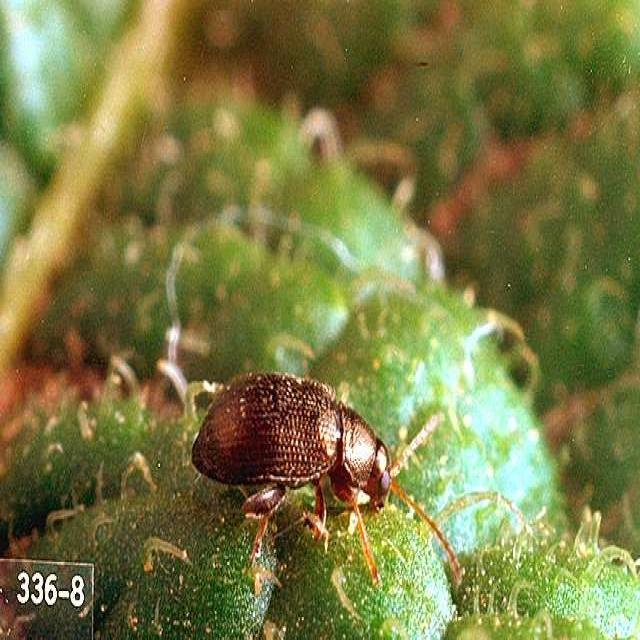flea_beetle: (180, 364, 458, 592)
